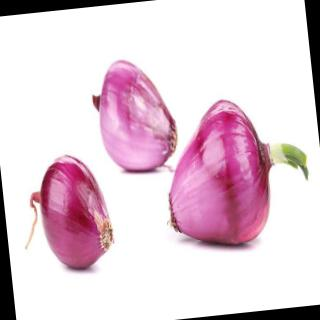Bawang Merah: (154, 90, 318, 257), (15, 149, 120, 280), (82, 49, 187, 180)
